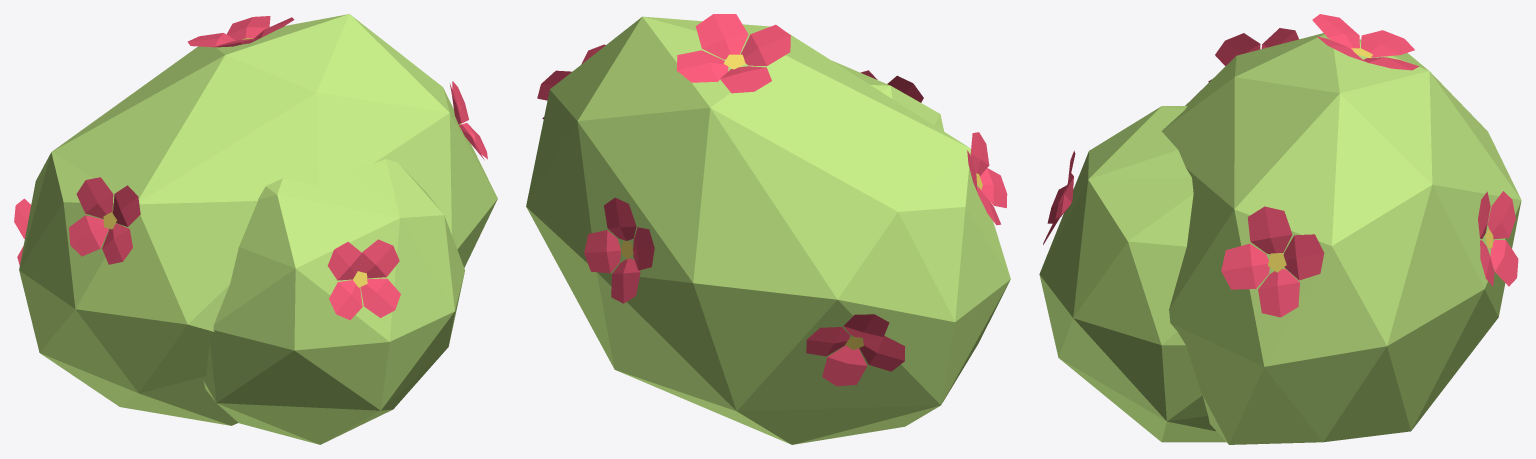
The model's file is FlowerBush_d_m_02.fbx.
3 renders of one model, left to right at view 1: azimuth 30°, elevation 25°; view 2: azimuth 150°, elevation 25°; view 3: azimuth 270°, elevation 25°, orthographic. The views are drawn at different scales.
Parts seen in each view (by area): view 1: FlowerBush_d_m_02_LOD0; view 2: FlowerBush_d_m_02_LOD0; view 3: FlowerBush_d_m_02_LOD0.
Part boxes in pixels (x1,y1,x2,y2): FlowerBush_d_m_02_LOD0: (14, 14, 497, 444); FlowerBush_d_m_02_LOD0: (526, 14, 1010, 444); FlowerBush_d_m_02_LOD0: (1039, 14, 1521, 444).
Size of what is drawn, in the model's own units: 157 by 129 by 137.
